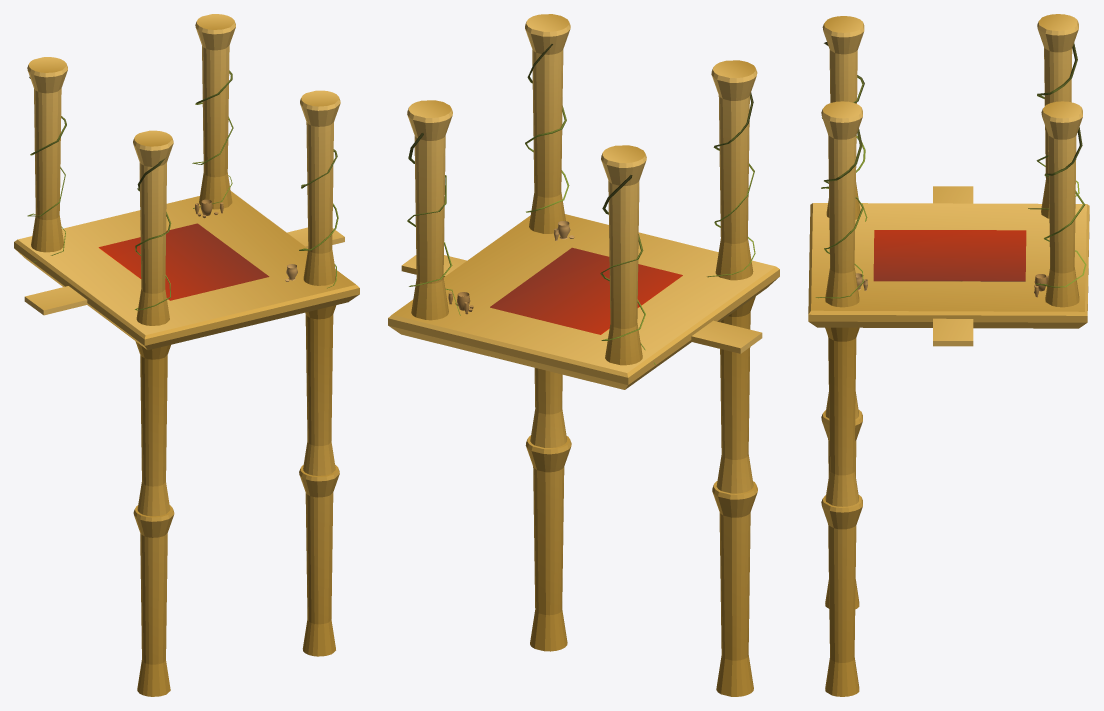
Rendered from checkpointPlatform.fbx.
The picture shows the model from 3 angles, left to right: view 1: azimuth 30°, elevation 25°; view 2: azimuth 150°, elevation 25°; view 3: azimuth 270°, elevation 25°; orthographic projection. The views are drawn at different scales.
Visible parts, largest first — view 1: polySurface1705; view 2: polySurface1705; view 3: polySurface1705.
Boxes of the visible parts, box(x1,y1,x2,y2) form: polySurface1705: box(14, 14, 359, 696); polySurface1705: box(388, 14, 779, 696); polySurface1705: box(808, 14, 1089, 696).
Size of the model in its own units: 24.05 by 42.03 by 18.47.
1 material, 1 textured.
